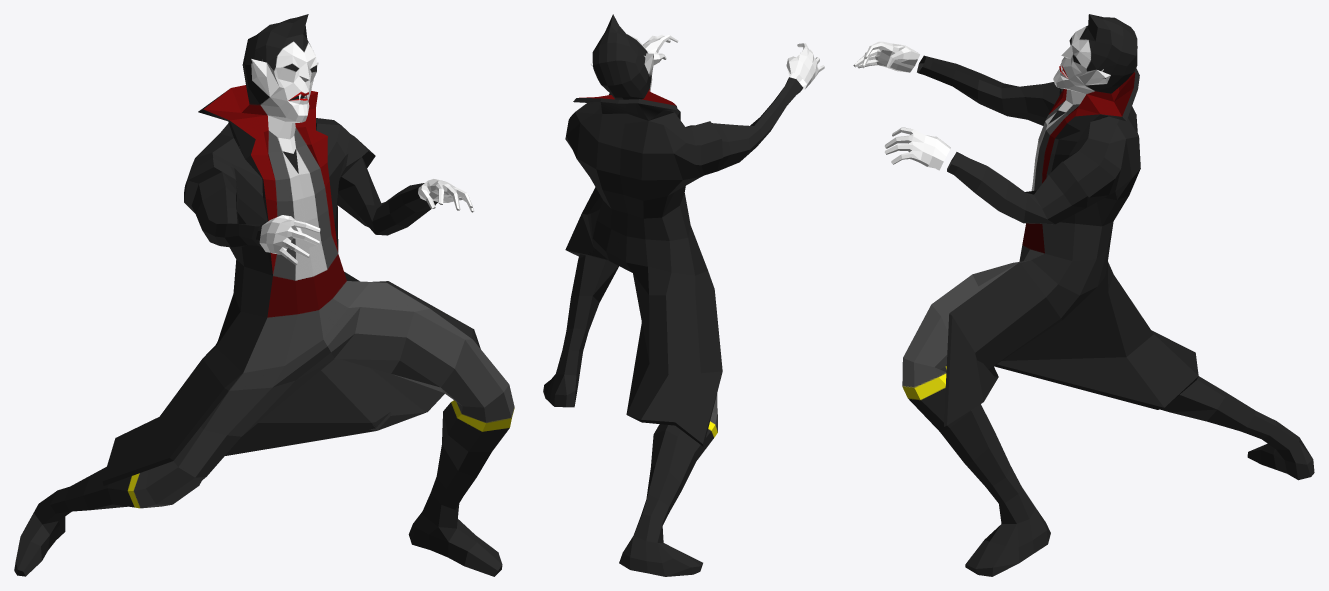
File: VampireAttack(21).obj
The picture shows the model from 3 angles, left to right: view 1: azimuth 30°, elevation 25°; view 2: azimuth 150°, elevation 25°; view 3: azimuth 270°, elevation 25°; orthographic projection. The views are drawn at different scales.
Visible parts, largest first — view 1: Plane002; view 2: Plane002; view 3: Plane002.
Boxes of the visible parts, box(x1,y1,x2,y2) form: Plane002: box(14, 14, 514, 576); Plane002: box(543, 14, 824, 576); Plane002: box(853, 14, 1314, 576).
Bounding box in the file's own units: 70.04 × 114 × 89.32.
